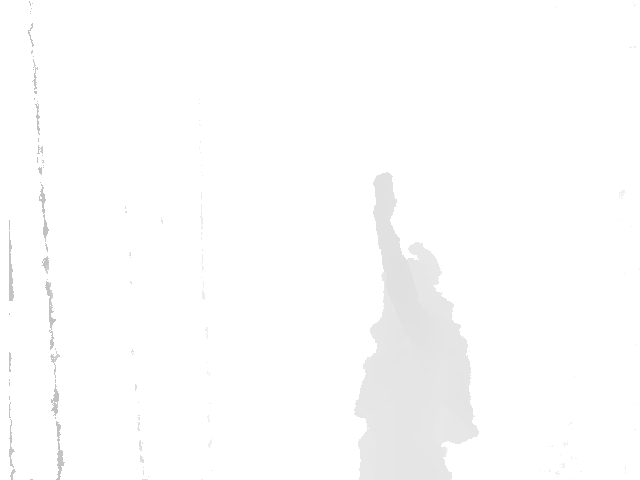hand: (371, 171, 397, 224)
head: (399, 241, 448, 313)
person: (351, 170, 479, 480)
